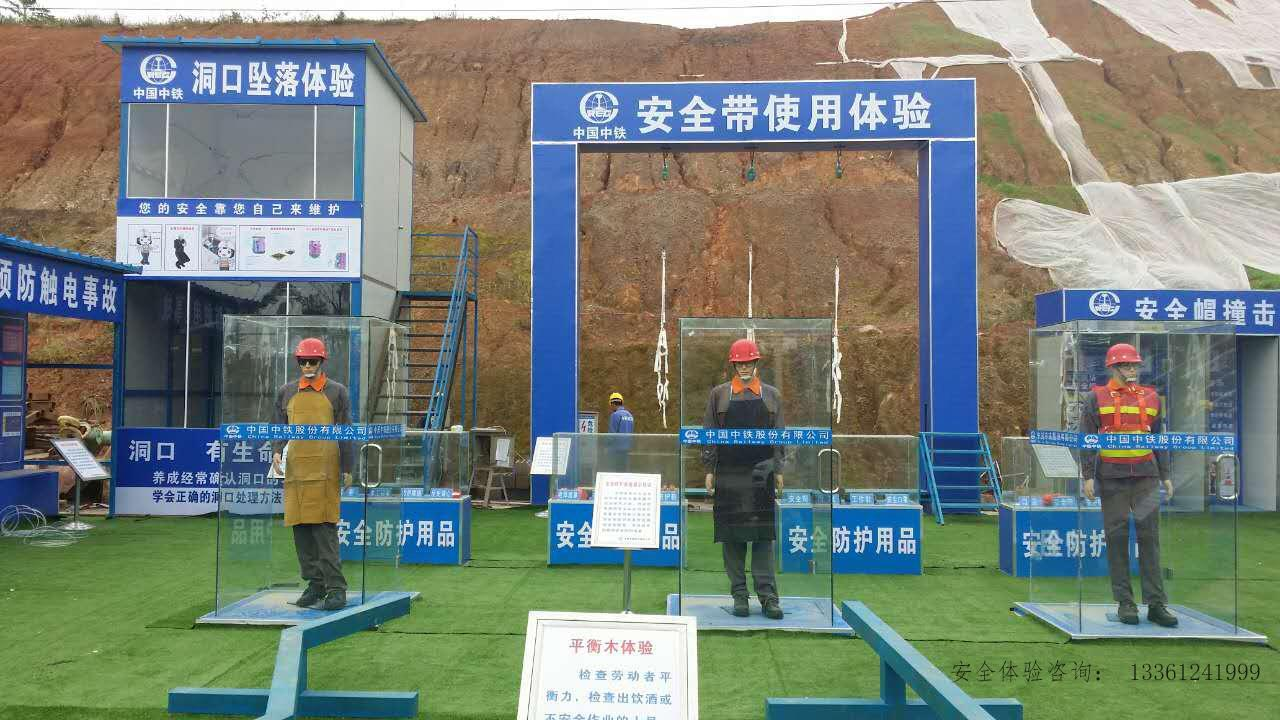helmet: (1105, 344, 1143, 368), (294, 339, 331, 362), (729, 340, 762, 365), (608, 393, 625, 404)
